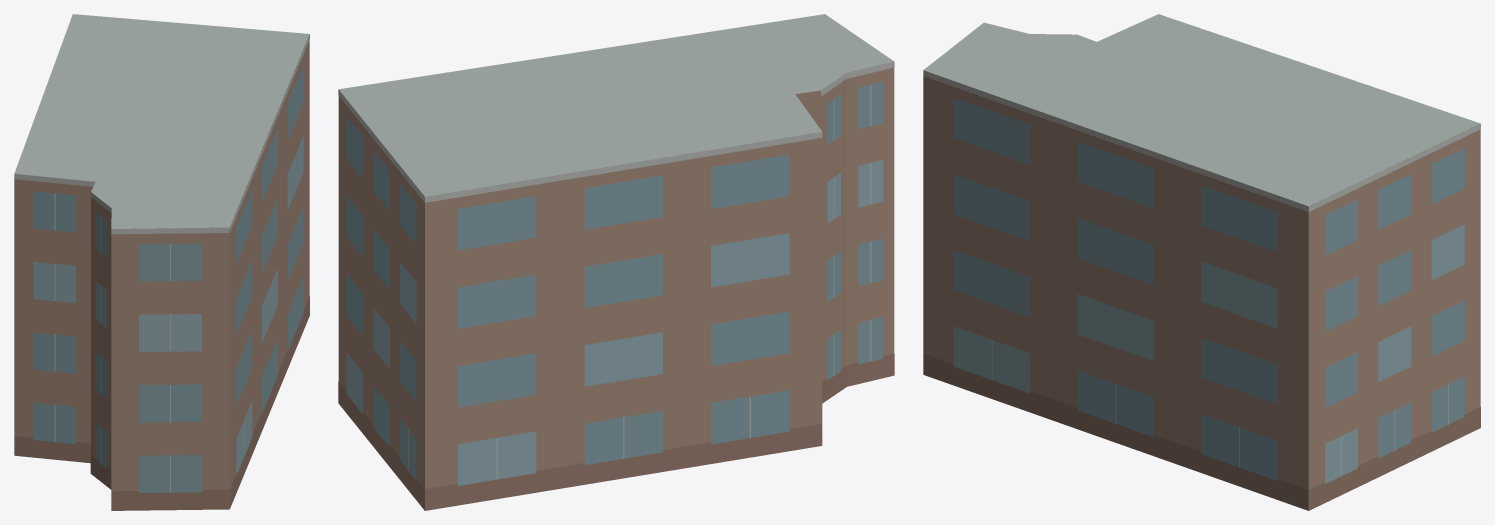
The model's file is survey-upis-32744842.glb.
The picture shows the model from 3 angles, left to right: view 1: azimuth 30°, elevation 25°; view 2: azimuth 150°, elevation 25°; view 3: azimuth 270°, elevation 25°; orthographic projection. The views are drawn at different scales.
Parts seen in each view (by area): view 1: survey-upis-32744842.tmp; view 2: survey-upis-32744842.tmp; view 3: survey-upis-32744842.tmp.
Part boxes in pixels (<box>): survey-upis-32744842.tmp: <box>14,14,309,510</box>; survey-upis-32744842.tmp: <box>338,14,894,510</box>; survey-upis-32744842.tmp: <box>923,14,1480,510</box>.
Size of the model in its own units: 17.49 by 12.9 by 21.41.
